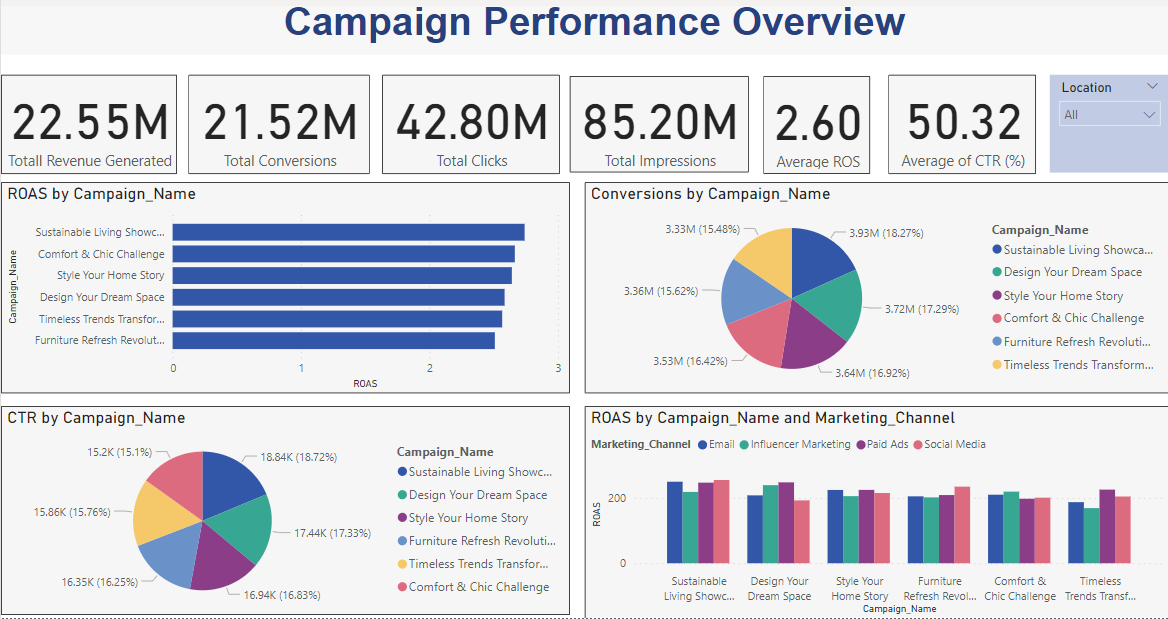

The dashboard page shown, as its layout file describes it:
{"tool":"powerbi","page":{"name":"Page 1","canvas":[1280,720],"ordinal":0},"visuals":[{"type":"card","fields":{"Values":["Sum(clean_data.Impressions)"]},"box":[623,115,195.8,105.4],"z":0},{"type":"card","fields":{"Values":["Sum(clean_data.Clicks)"]},"box":[417.6,112.3,194.4,108.2],"z":1000},{"type":"card","fields":{"Values":["Sum(clean_data.Revenue_Generated)"]},"box":[0,112.3,193.1,108.2],"z":2000},{"type":"card","fields":{"Values":["Avg(clean_data.CTR (%))"]},"box":[969.5,115,161.6,108.2],"z":3000},{"type":"card","fields":{"Values":["Avg(clean_data.Return on Advertising Spend (ROAS))"]},"box":[832.5,115,117.8,106.8],"z":4000},{"type":"card","fields":{"Values":["Sum(clean_data.Conversions)"]},"box":[202.7,112.3,198.5,108.2],"z":5000},{"type":"textbox","box":[0,37.1,1280,65.7],"z":6000},{"type":"clusteredBarChart","fields":{"Category":["clean_data.Campaign_Name"],"Y":["Median(clean_data.Return on Advertising Spend (ROAS))"]},"box":[0,242.4,623,231.4],"z":7000},{"type":"pieChart","fields":{"Category":["clean_data.Campaign_Name"],"Y":["Sum(clean_data.Conversions)"]},"box":[640,242.9,640,231.4],"z":8000},{"type":"pieChart","fields":{"Category":["clean_data.Campaign_Name"],"Y":["Sum(clean_data.CTR (%))"]},"box":[0,487.1,622.9,228.6],"z":9000},{"type":"clusteredColumnChart","fields":{"Category":["clean_data.Campaign_Name"],"Y":["Sum(clean_data.Return on Advertising Spend (ROAS))"],"Series":["clean_data.Marketing_Channel"]},"box":[640,487.1,640,232.9],"z":10000},{"type":"slicer","fields":{"Values":["clean_data.Location"]},"box":[1147.5,115,131.5,108.2],"z":11000}]}

Visuals, with their boxes on the page's 1280x720 design canvas (x1, y1, x2, y2). These are canvas units, not pixel positions in the 1168x619 screenshot, which may show the page scaled, cropped or inside an application window:
card - Sum(clean_data.Impressions): detection(623, 115, 819, 220)
card - Sum(clean_data.Clicks): detection(418, 112, 612, 220)
card - Sum(clean_data.Revenue_Generated): detection(0, 112, 193, 220)
card - Avg(clean_data.CTR (%)): detection(970, 115, 1131, 223)
card - Avg(clean_data.Return on Advertising Spend (ROAS)): detection(832, 115, 950, 222)
card - Sum(clean_data.Conversions): detection(203, 112, 401, 220)
textbox: detection(0, 37, 1280, 103)
clusteredBarChart - clean_data.Campaign_Name x Median(clean_data.Return on Advertising Spend (ROAS)): detection(0, 242, 623, 474)
pieChart - clean_data.Campaign_Name x Sum(clean_data.Conversions): detection(640, 243, 1280, 474)
pieChart - clean_data.Campaign_Name x Sum(clean_data.CTR (%)): detection(0, 487, 623, 716)
clusteredColumnChart - clean_data.Campaign_Name x Sum(clean_data.Return on Advertising Spend (ROAS)): detection(640, 487, 1280, 720)
slicer - clean_data.Location: detection(1148, 115, 1279, 223)
